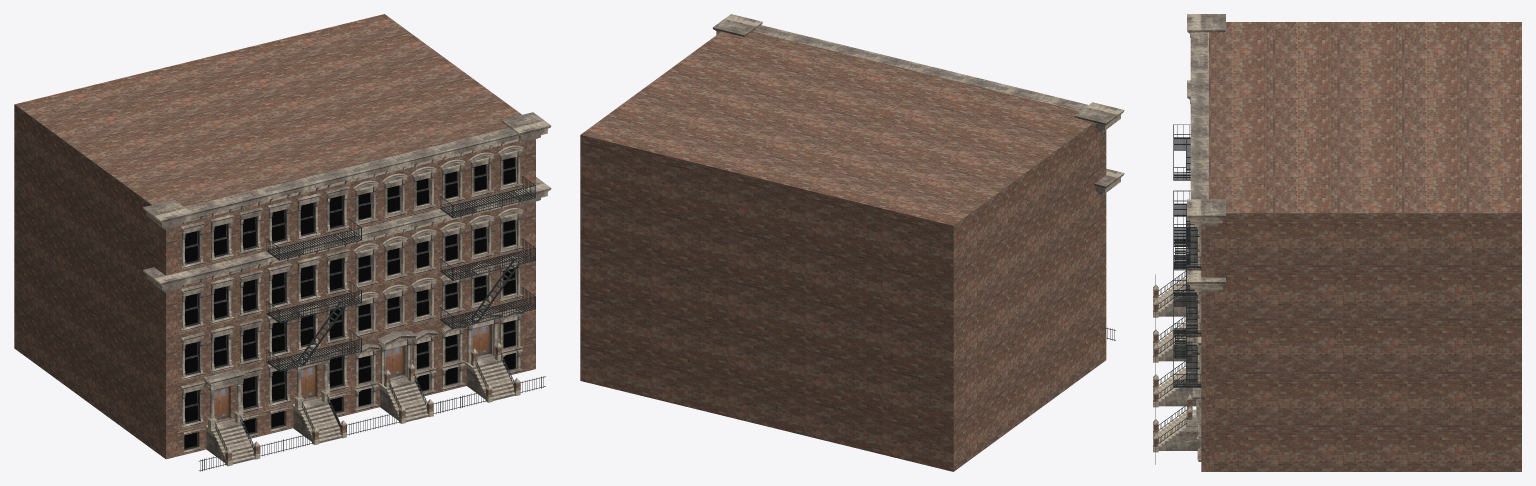
The model's file is Building.fbx.
3 views of the same model, side by side, from view 1: azimuth 30°, elevation 25°; view 2: azimuth 150°, elevation 25°; view 3: azimuth 270°, elevation 25° (orthographic). The views are drawn at different scales.
Parts seen in each view (by area): view 1: Building1; view 2: Building1; view 3: Building1.
Part boxes in pixels (x1,y1,x2,y2): Building1: [14, 14, 551, 471]; Building1: [580, 14, 1124, 471]; Building1: [1153, 14, 1521, 471].
Bounding box in the file's own units: 3375 × 2034 × 2607.
